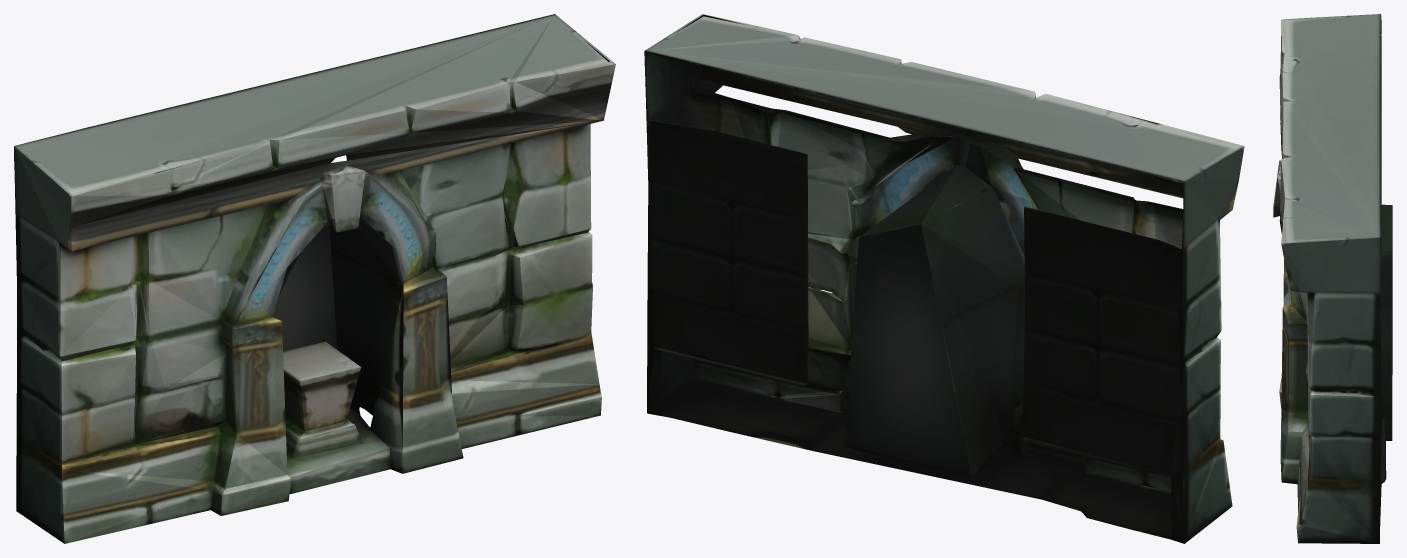
Rendered from wall_alcove.glb.
3 renders of one model, left to right at view 1: azimuth 30°, elevation 25°; view 2: azimuth 150°, elevation 25°; view 3: azimuth 270°, elevation 25°, orthographic. The views are drawn at different scales.
Visible parts, largest first — view 1: world; view 2: world; view 3: world.
Part boxes in pixels (bbox=[...]): world: bbox=[14, 14, 615, 543]; world: bbox=[644, 14, 1244, 543]; world: bbox=[1273, 14, 1392, 543].
Size of the model in its own units: 0.9912 by 0.6351 by 0.2233.
Materials: 1 (1 with a texture image).
